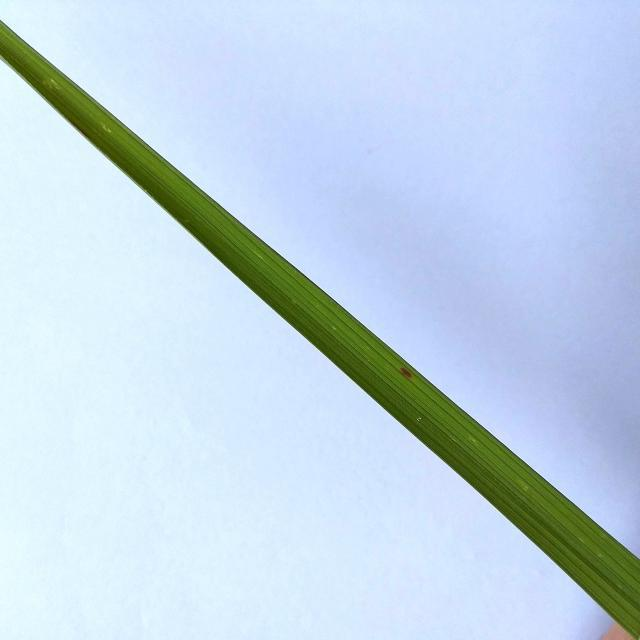brownspots: (398, 360, 424, 384)
